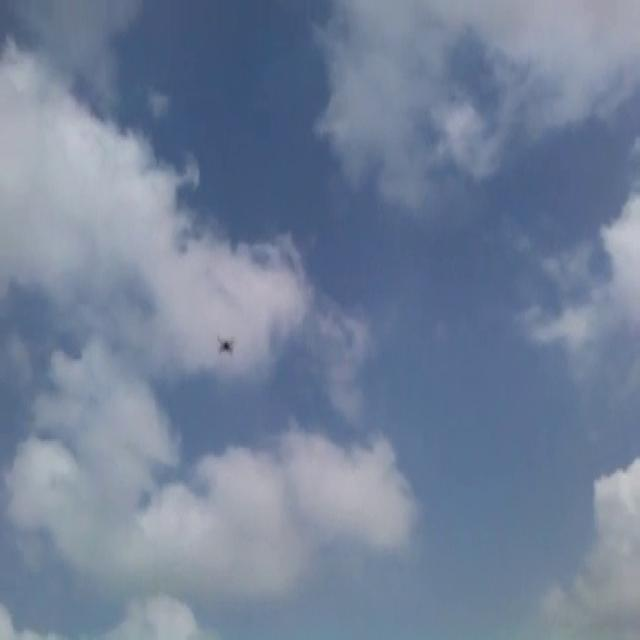drone: (212, 330, 238, 356)
